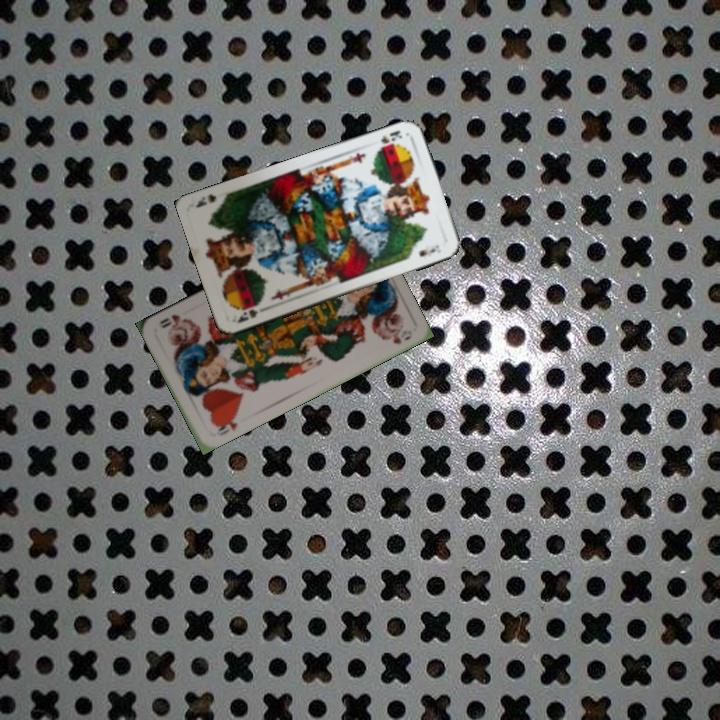HO: (212, 411, 240, 438)
SK: (233, 300, 269, 325), (377, 126, 405, 146)
